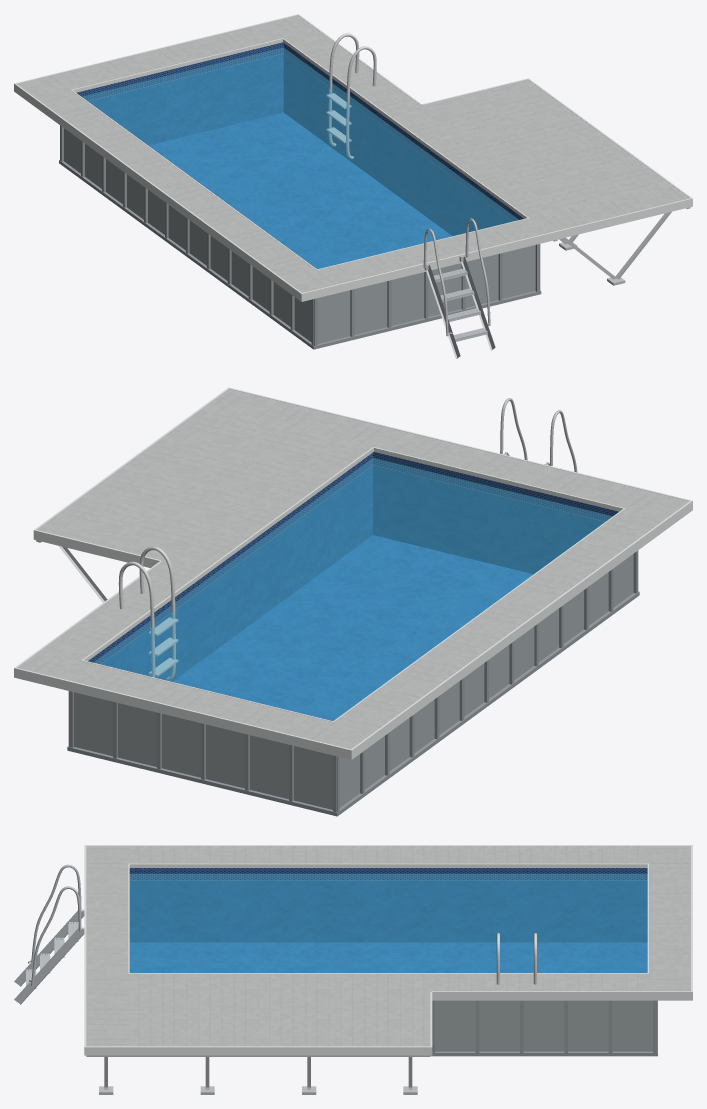
Rendered from kayak-pool-12x24-gray-l-ag-nofence.07fc3deade.glb.
3 renders of one model, top to bottom at view 1: azimuth 30°, elevation 25°; view 2: azimuth 150°, elevation 25°; view 3: azimuth 270°, elevation 25°, orthographic. The views are drawn at different scales.
Parts seen in each view (by area): view 1: water, deck, liner_wall, liner_floor, wall, fascia, upright, ladder, steel, stud; view 2: water, deck, liner_wall, liner_floor, wall, fascia, upright, steel, ladder; view 3: water, deck, liner_wall, liner_floor, fascia, wall, ladder, upright, stud, steel.
Boxes of the visible parts, left/top/right/bottom form: water: left=82, top=47, right=518, bottom=269; deck: left=17, top=15, right=689, bottom=292; liner_wall: left=76, top=42, right=523, bottom=235; liner_floor: left=148, top=112, right=451, bottom=269; wall: left=64, top=128, right=535, bottom=343; fascia: left=14, top=14, right=692, bottom=301; upright: left=59, top=125, right=541, bottom=349; ladder: left=423, top=218, right=495, bottom=358; steel: left=326, top=33, right=376, bottom=159; stud: left=553, top=207, right=690, bottom=285; water: left=93, top=458, right=612, bottom=720; deck: left=17, top=389, right=689, bottom=749; liner_wall: left=88, top=452, right=618, bottom=681; liner_floor: left=173, top=535, right=533, bottom=720; wall: left=74, top=554, right=633, bottom=809; fascia: left=14, top=387, right=692, bottom=759; upright: left=67, top=550, right=639, bottom=816; steel: left=118, top=546, right=178, bottom=680; ladder: left=500, top=398, right=577, bottom=472; water: left=129, top=873, right=647, bottom=972; deck: left=84, top=846, right=690, bottom=1050; liner_wall: left=129, top=868, right=647, bottom=942; liner_floor: left=129, top=942, right=647, bottom=972; fascia: left=84, top=845, right=692, bottom=1055; wall: left=435, top=1000, right=652, bottom=1051; ladder: left=14, top=864, right=84, bottom=1004; upright: left=430, top=1000, right=657, bottom=1056; stud: left=86, top=1055, right=430, bottom=1094; steel: left=496, top=933, right=536, bottom=984.
Size of the model in its own units: 6.71 by 1.9 by 9.52.
Materials: 10 (3 with a texture image).
